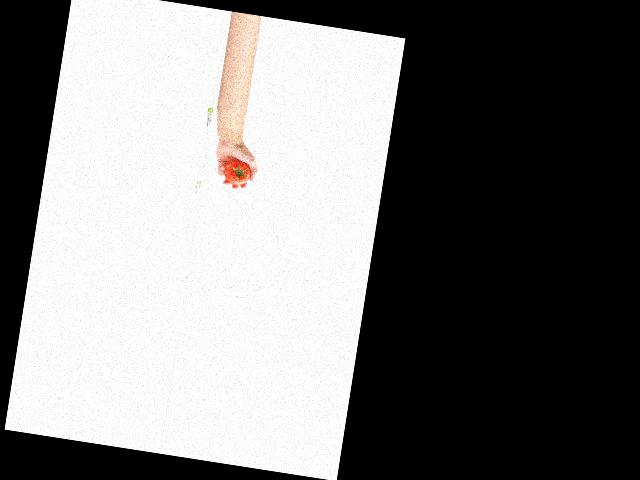tomato: (221, 158, 251, 187)
